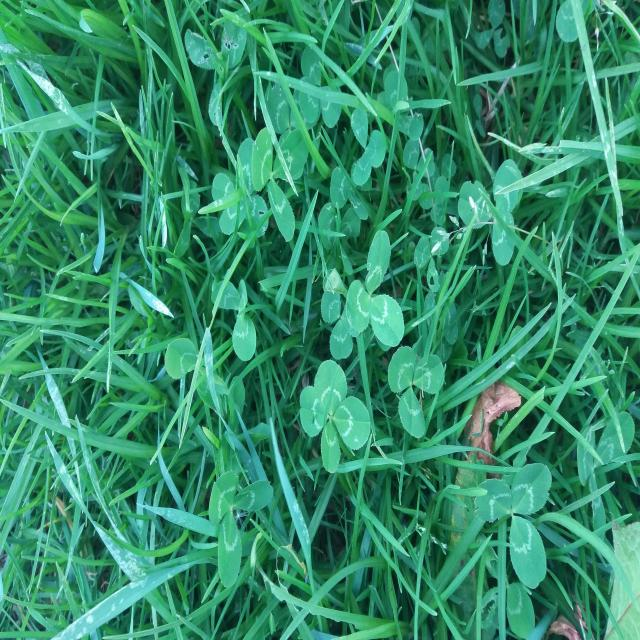Four Leaf Clover: (299, 358, 371, 475)
